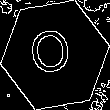O_S: (31, 26, 79, 84)
